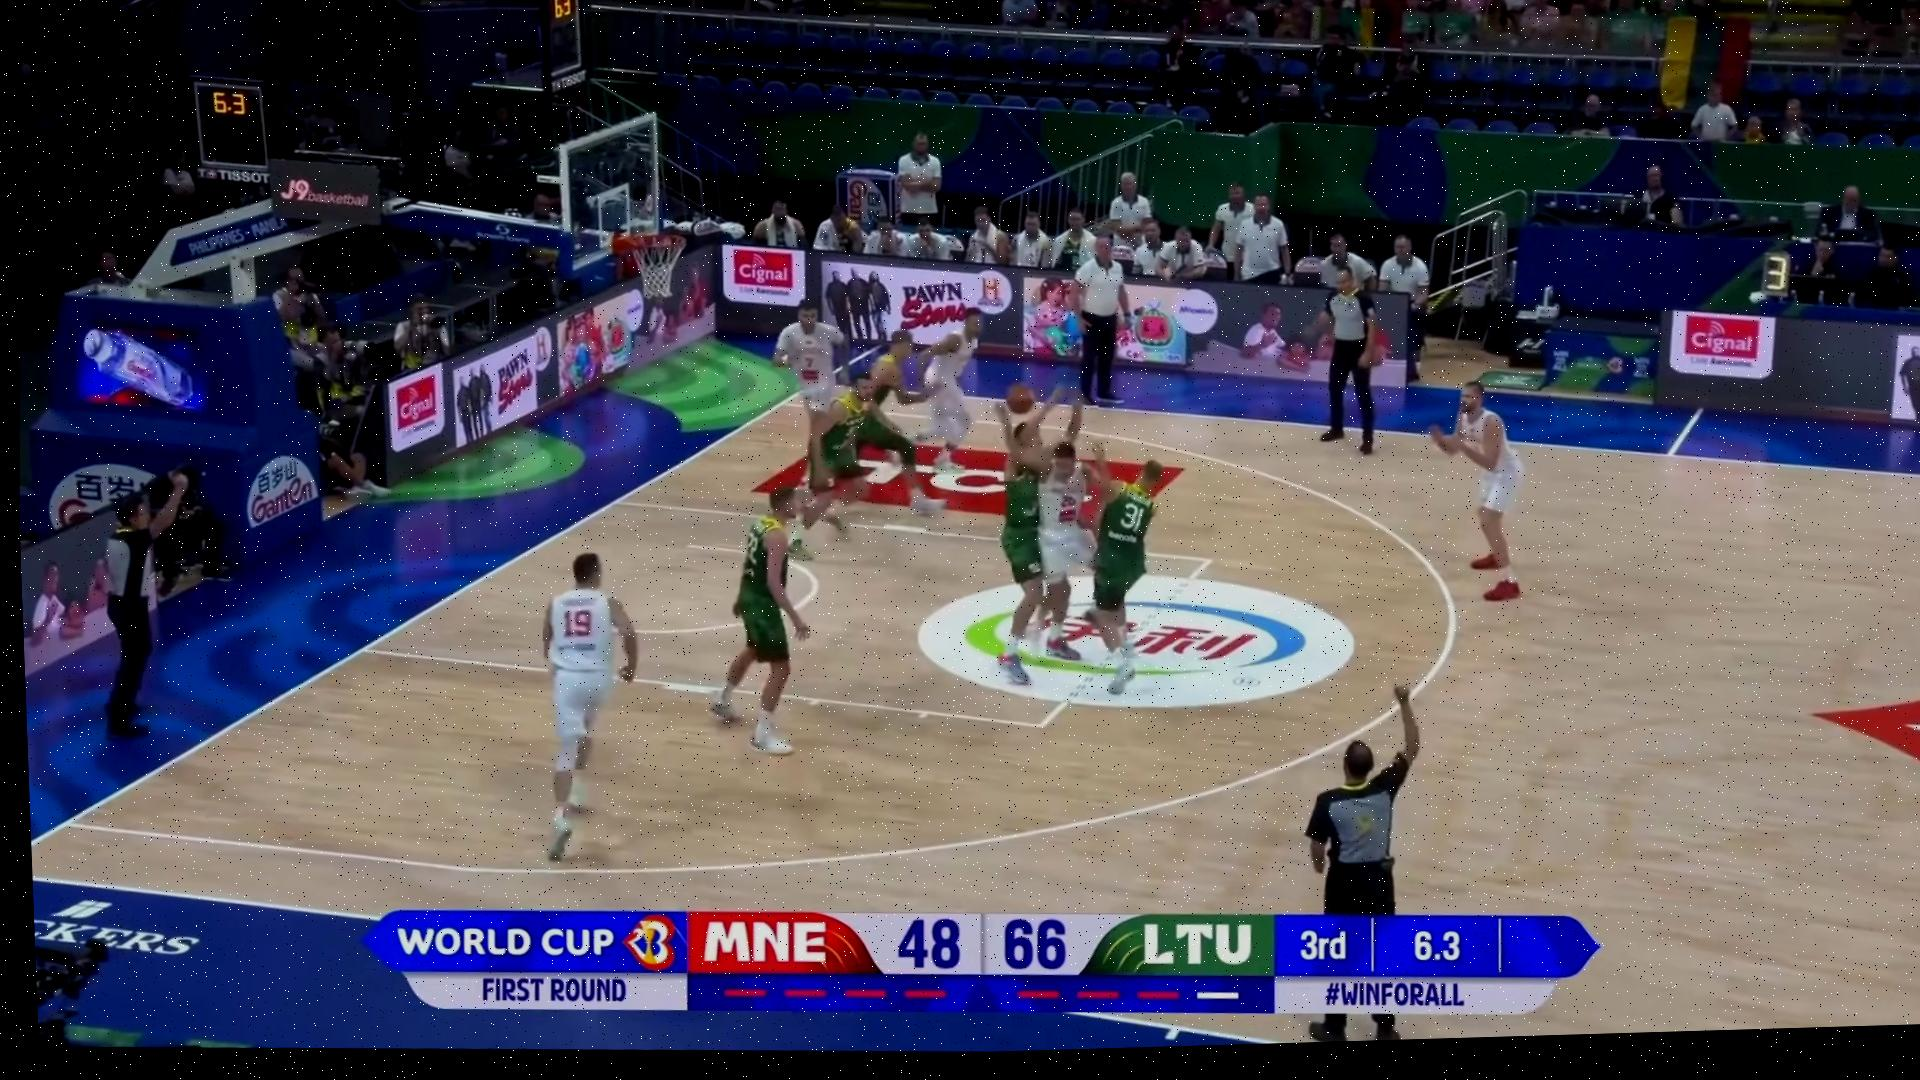foul: (952, 375, 1184, 704)
